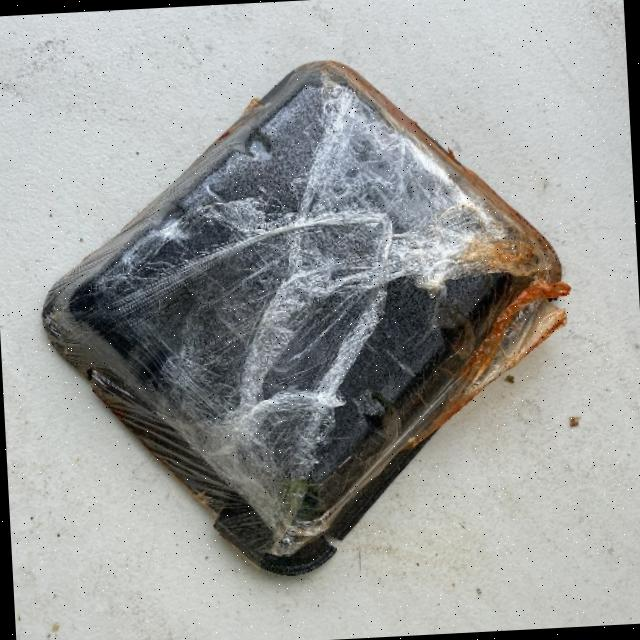styrofoam: (27, 44, 585, 590)
